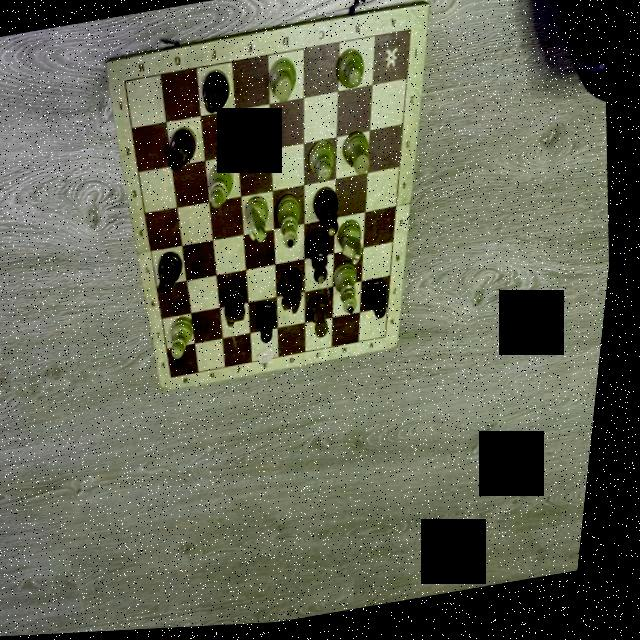chess-table-corners: (120, 76, 134, 90), (406, 26, 418, 42), (386, 334, 398, 348), (176, 376, 183, 384)
